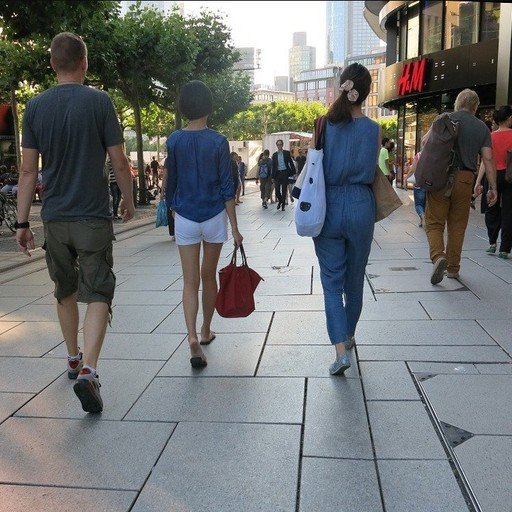pedestrian: (12, 28, 141, 422), (295, 61, 406, 383), (154, 78, 249, 376), (412, 87, 497, 291), (270, 138, 299, 212)
